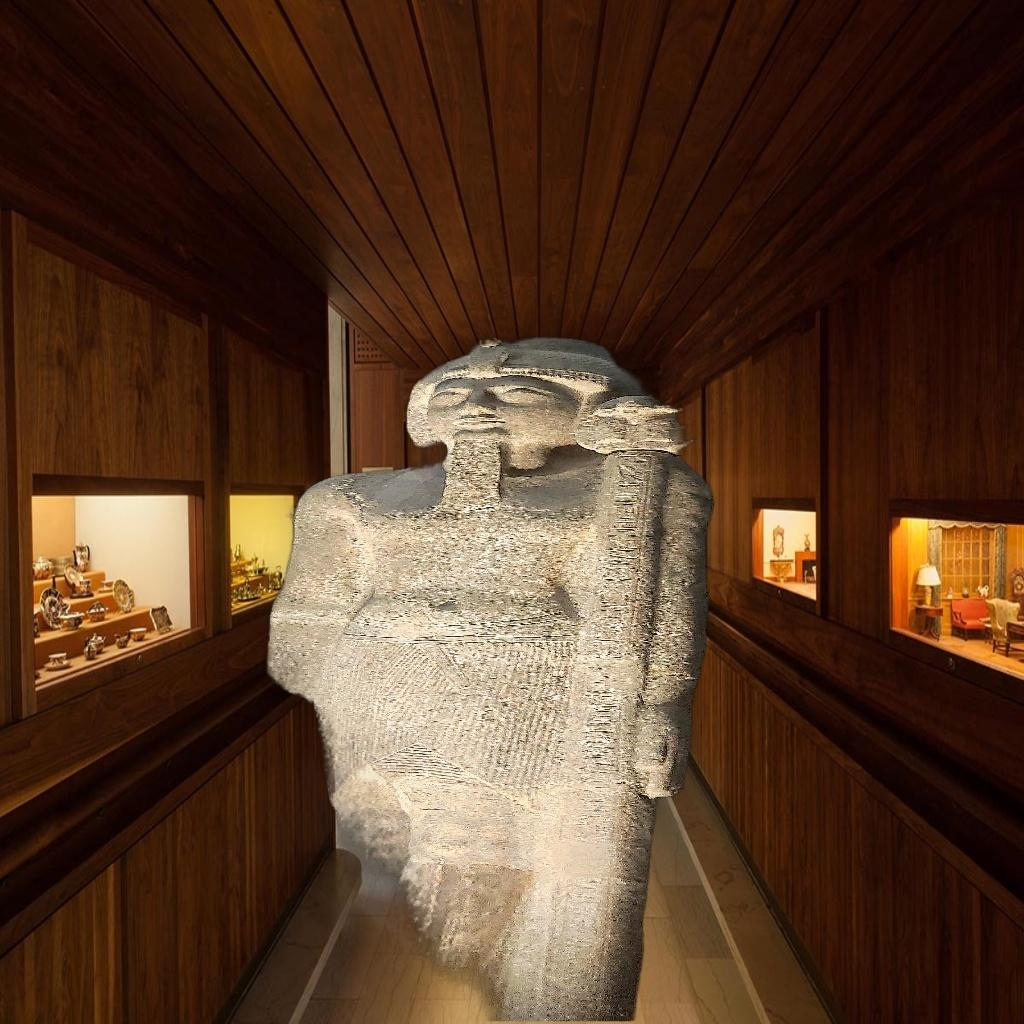Statue of Ramesses III as standard Bearer: (232, 332, 723, 1022)
